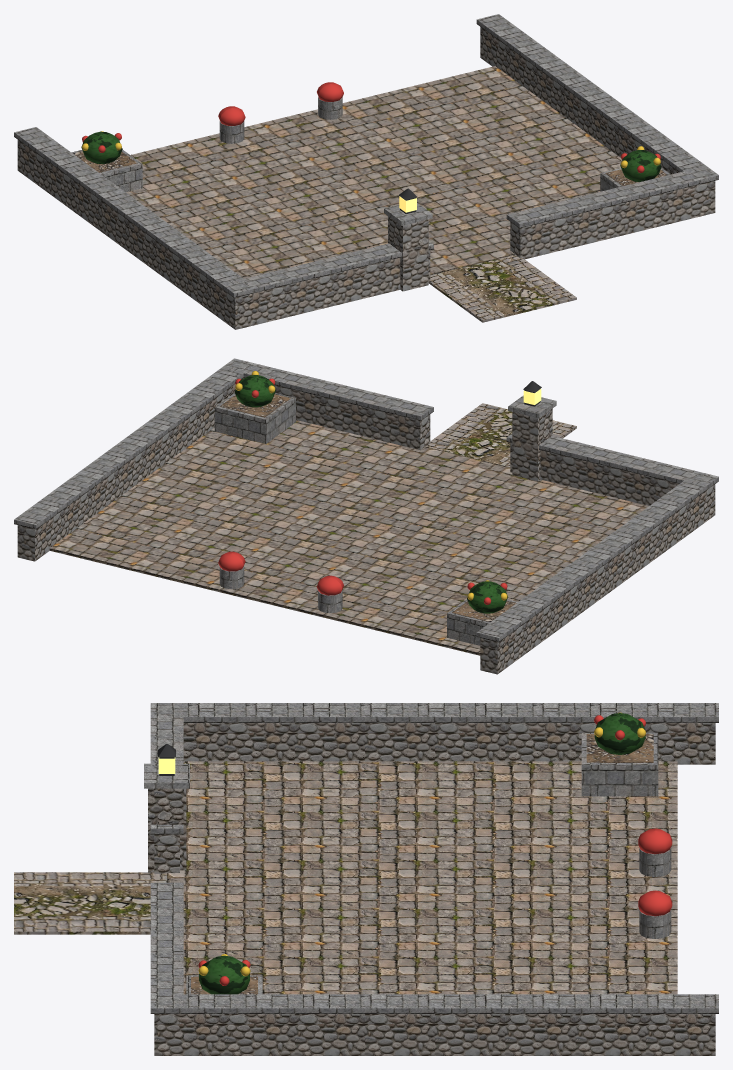
File: muro_patio.glb
3 renders of one model, top to bottom at view 1: azimuth 30°, elevation 25°; view 2: azimuth 150°, elevation 25°; view 3: azimuth 270°, elevation 25°, orthographic. The views are drawn at different scales.
Visible parts, largest first — view 1: pieza; view 2: pieza; view 3: pieza.
Part boxes in pixels (left/top/right/bottom): pieza: left=14, top=14, right=718, bottom=329; pieza: left=14, top=358, right=718, bottom=674; pieza: left=14, top=703, right=718, bottom=1055.
Size of the model in its own units: 11.32 by 2.1 by 11.05.
10 materials, 6 textured.
